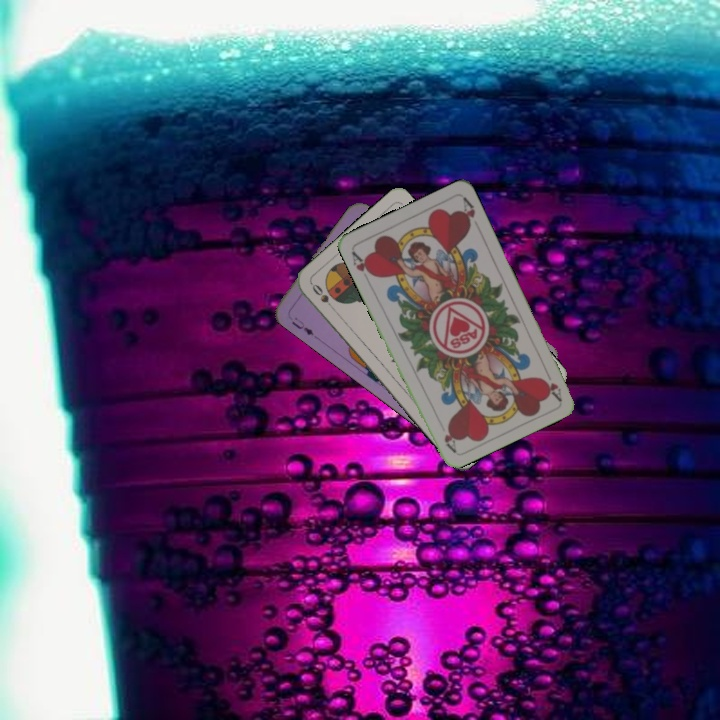EU: (288, 313, 316, 338)
HA: (347, 247, 377, 280), (537, 373, 564, 403)
SO: (307, 280, 338, 314)
